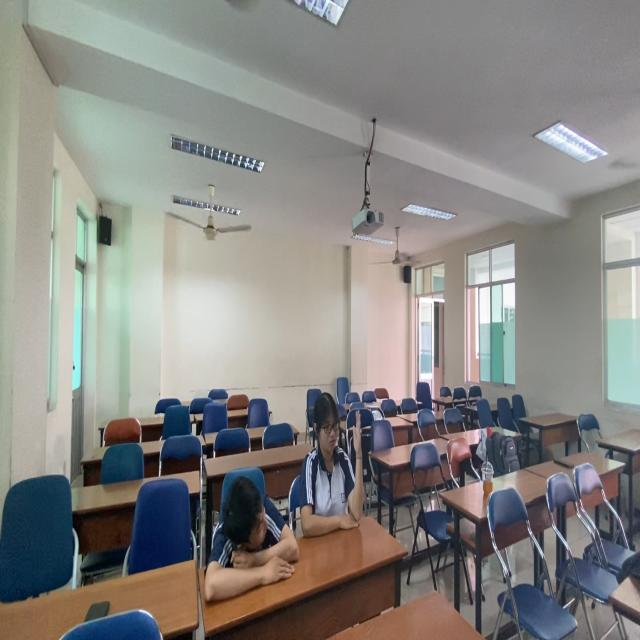raise_hand: (309, 393, 370, 555)
sleep: (201, 471, 306, 612)
